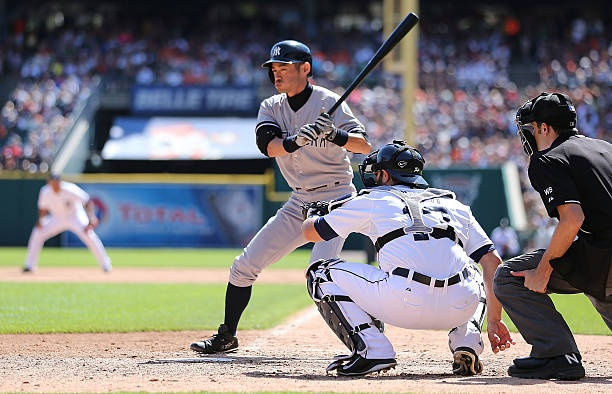bita: (326, 8, 417, 116)
